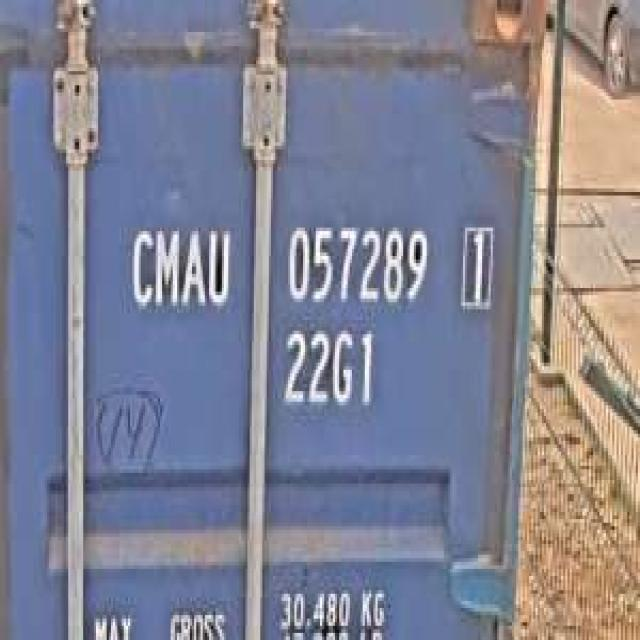dv: (454, 214, 497, 316)
owner: (123, 213, 234, 320)
serial: (282, 213, 433, 313)
size: (277, 320, 378, 416)
